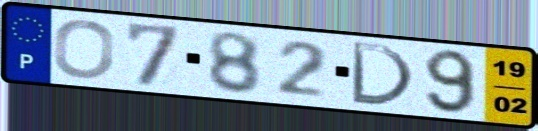2: (276, 40, 331, 100)
7: (123, 19, 183, 89)
8: (205, 29, 263, 96)
9: (420, 47, 481, 116)
D: (348, 39, 418, 109)
O: (51, 18, 118, 80)
